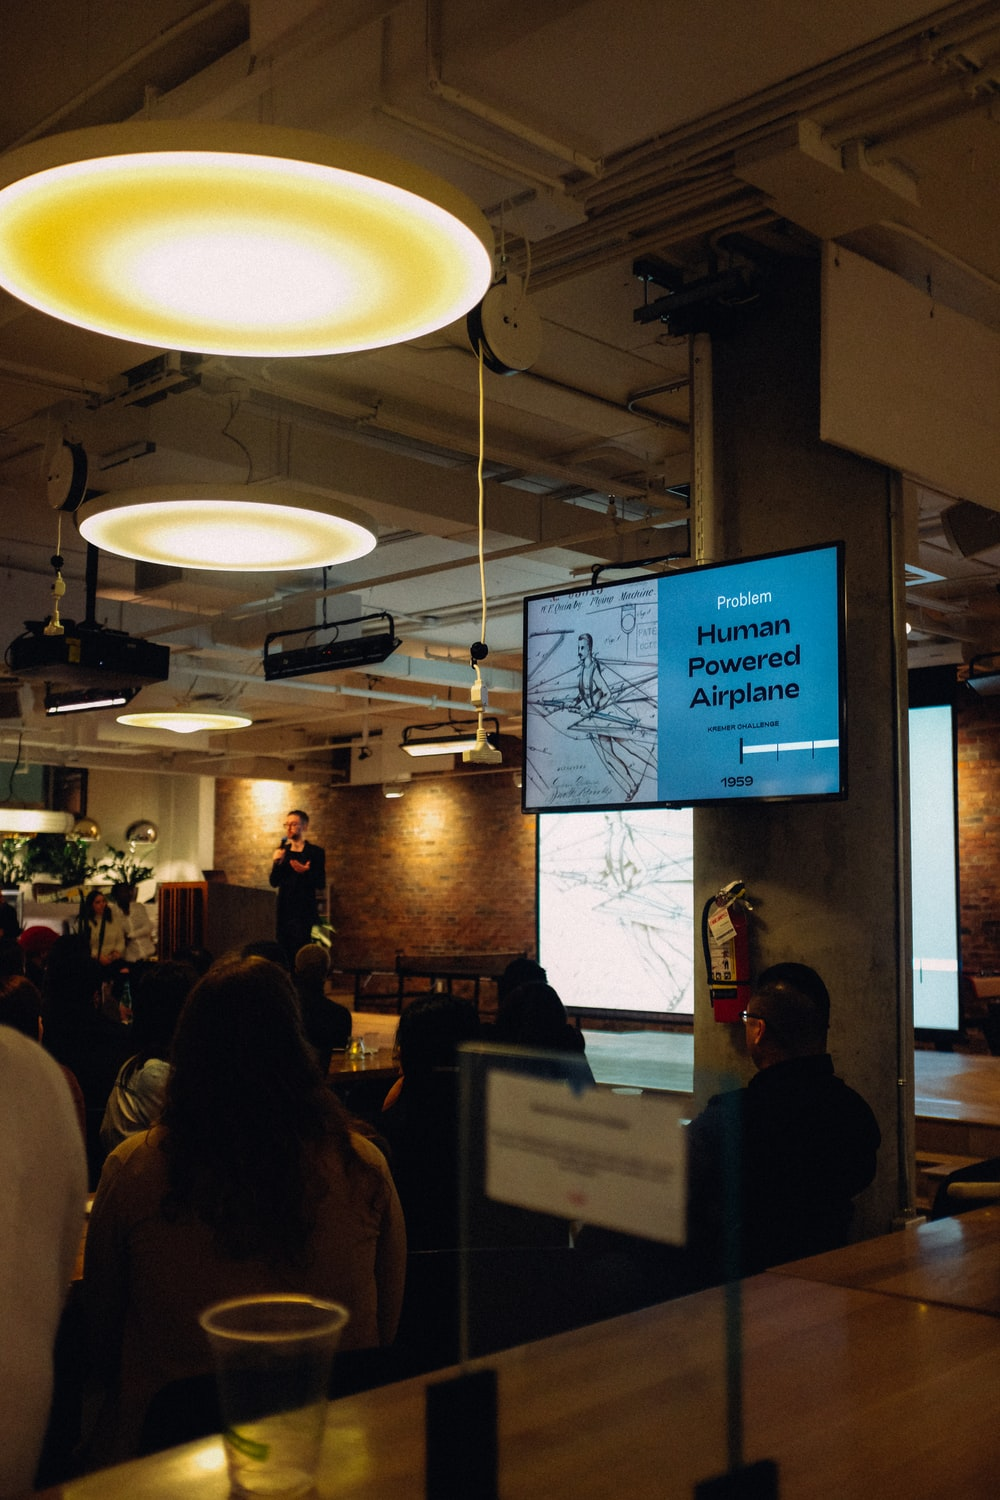face: (267, 806, 328, 867)
